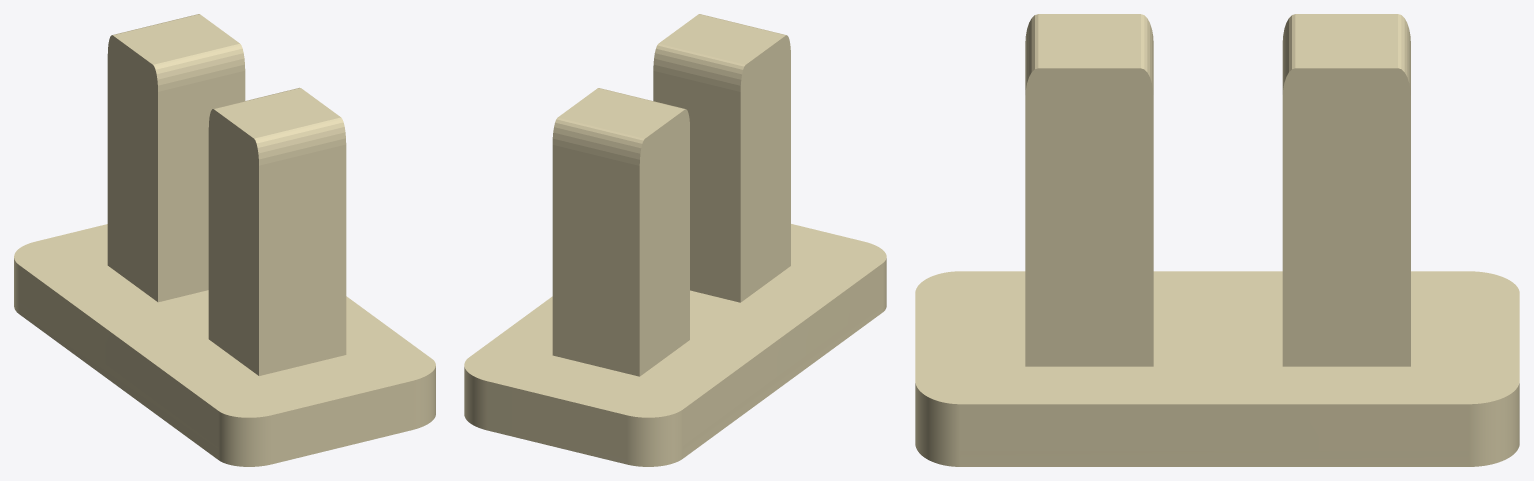
Rendered from NewLid.fbx.
3 renders of one model, left to right at view 1: azimuth 30°, elevation 25°; view 2: azimuth 150°, elevation 25°; view 3: azimuth 270°, elevation 25°, orthographic. The views are drawn at different scales.
Parts seen in each view (by area): view 1: PoklopacSladoledKutija; view 2: PoklopacSladoledKutija; view 3: PoklopacSladoledKutija.
Part boxes in pixels (box(x1,y1,x2,y2)): PoklopacSladoledKutija: box(14, 14, 435, 466); PoklopacSladoledKutija: box(464, 14, 886, 466); PoklopacSladoledKutija: box(915, 14, 1519, 466).
Bounding box in the file's own units: 0.4901 × 0.6209 × 0.9421.
